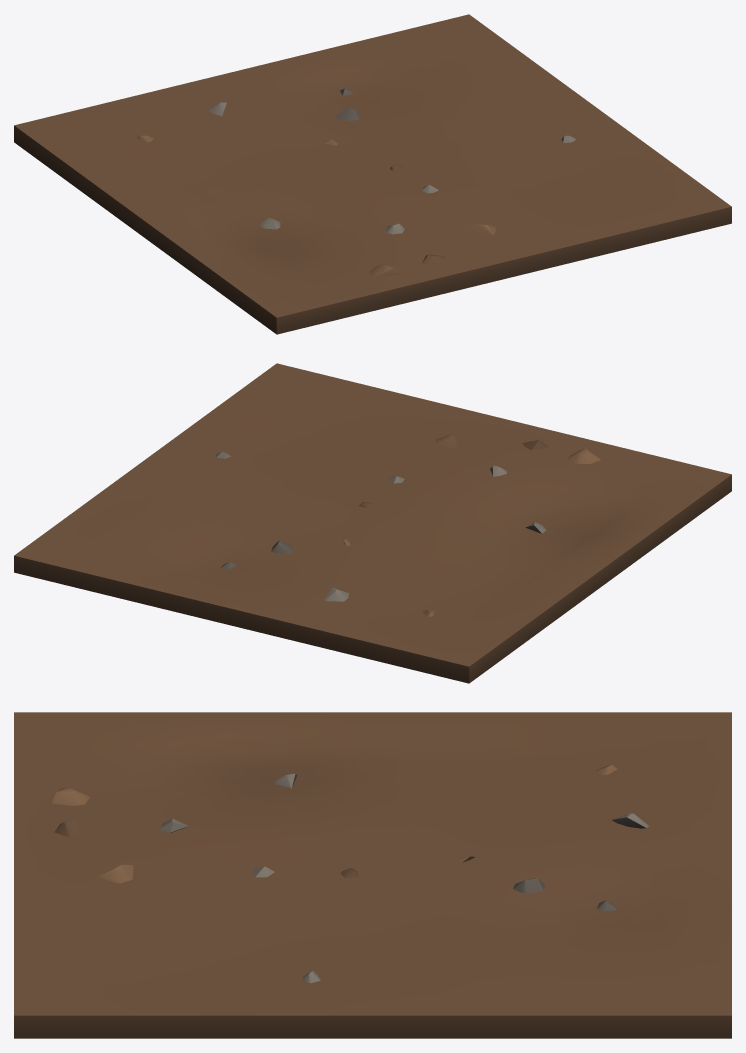
Rendered from floor_earth_large_C.glb.
3 renders of one model, top to bottom at view 1: azimuth 30°, elevation 25°; view 2: azimuth 150°, elevation 25°; view 3: azimuth 270°, elevation 25°, orthographic. The views are drawn at different scales.
Parts seen in each view (by area): view 1: Item; view 2: Item; view 3: Item.
Part boxes in pixels (bbox=[...]): Item: bbox=[14, 14, 731, 334]; Item: bbox=[14, 363, 731, 683]; Item: bbox=[14, 712, 731, 1038].
Size of the model in its own units: 4 by 0.2114 by 4.
Materials: 1 (1 with a texture image).
